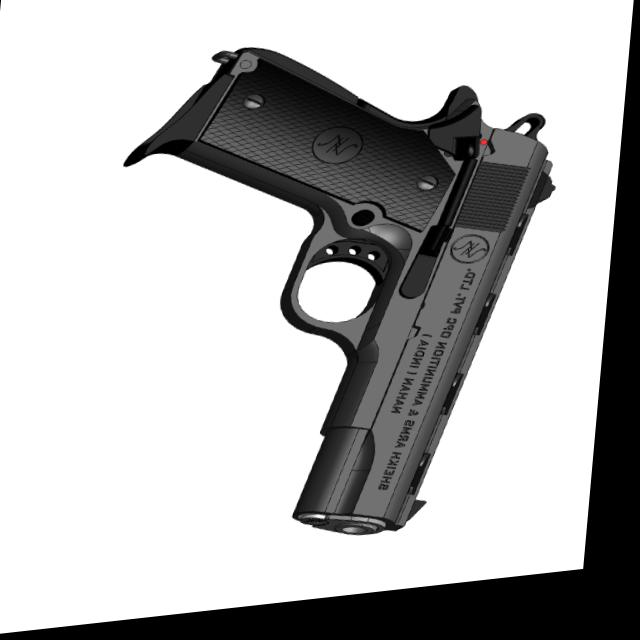handgun: (93, 21, 573, 578)
